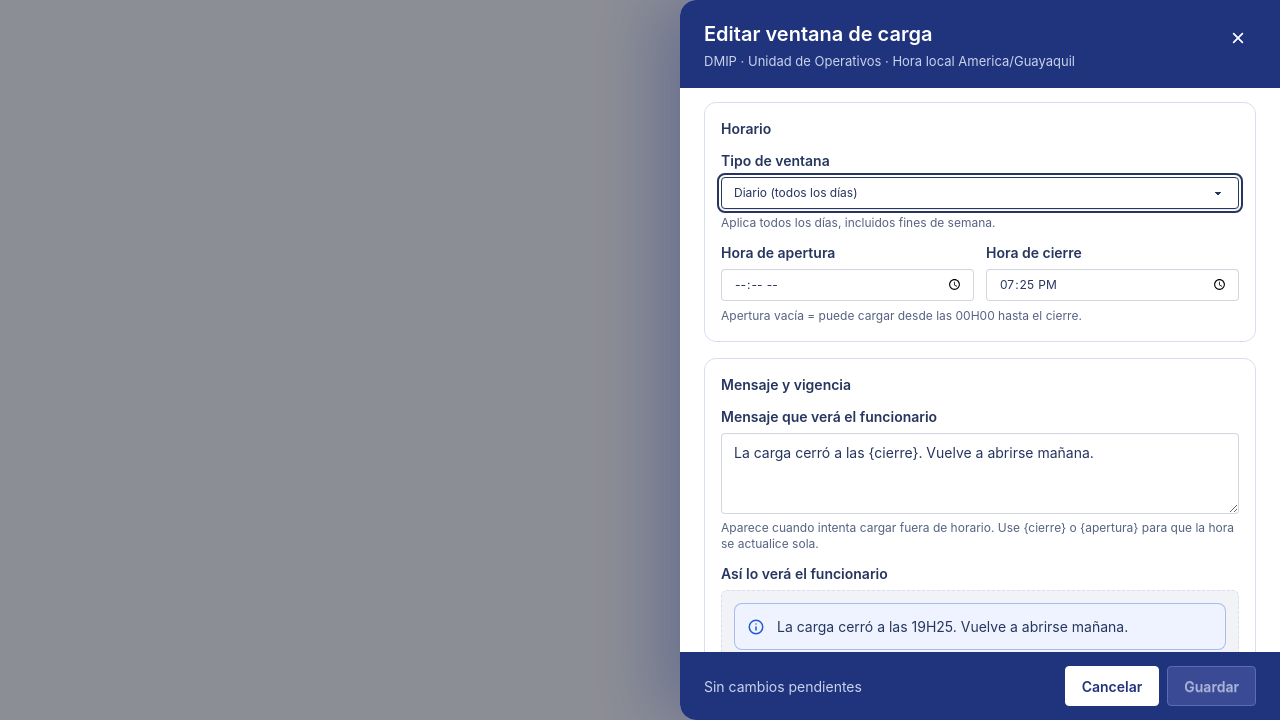
«Editar ventana de carga» · lo que verá el funcionario › la ayuda de las horas dice el horario real, o qué significa la apertura vacía
Check: the text "Apertura vacía = puede cargar desde las 00H00 hasta el cierre." is shown, box [721,308,1082,322]
Step 1. Type "07:00" into the time field labelled "Hora de apertura" → (848, 284), box [721,268,974,300]
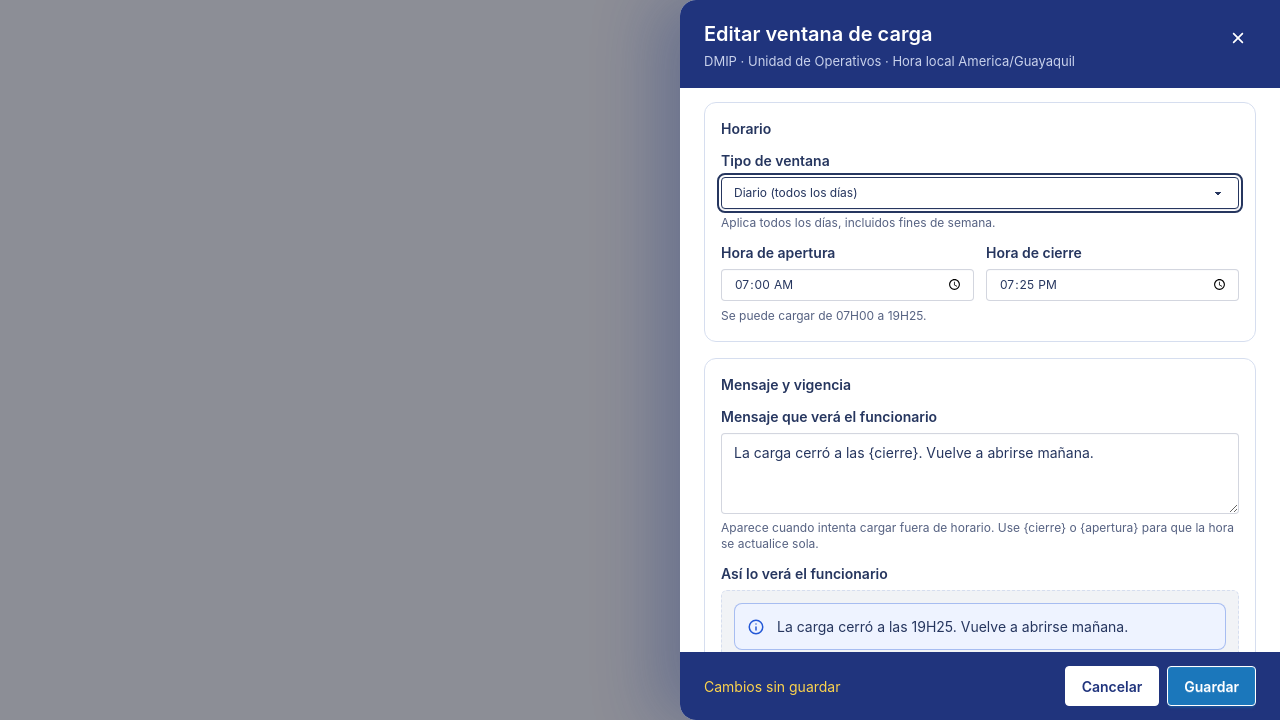
Check: the text "Se puede cargar de 07H00 a 19H25." is shown, box [721,308,926,322]
